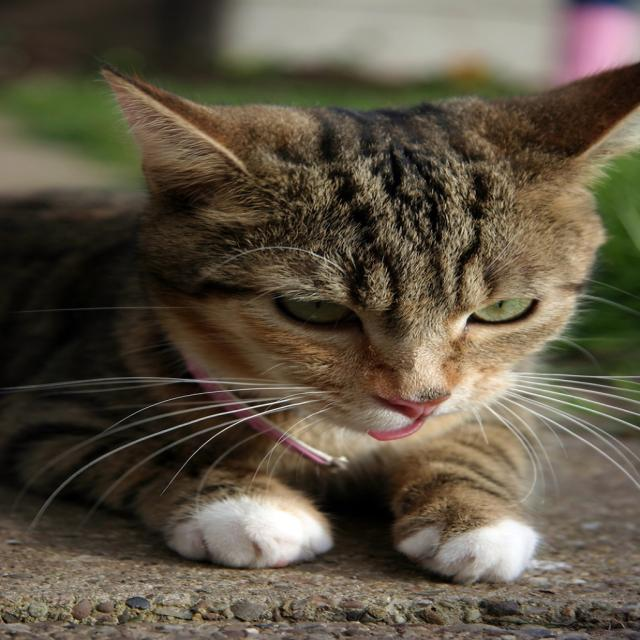Cat: (2, 63, 638, 590)
